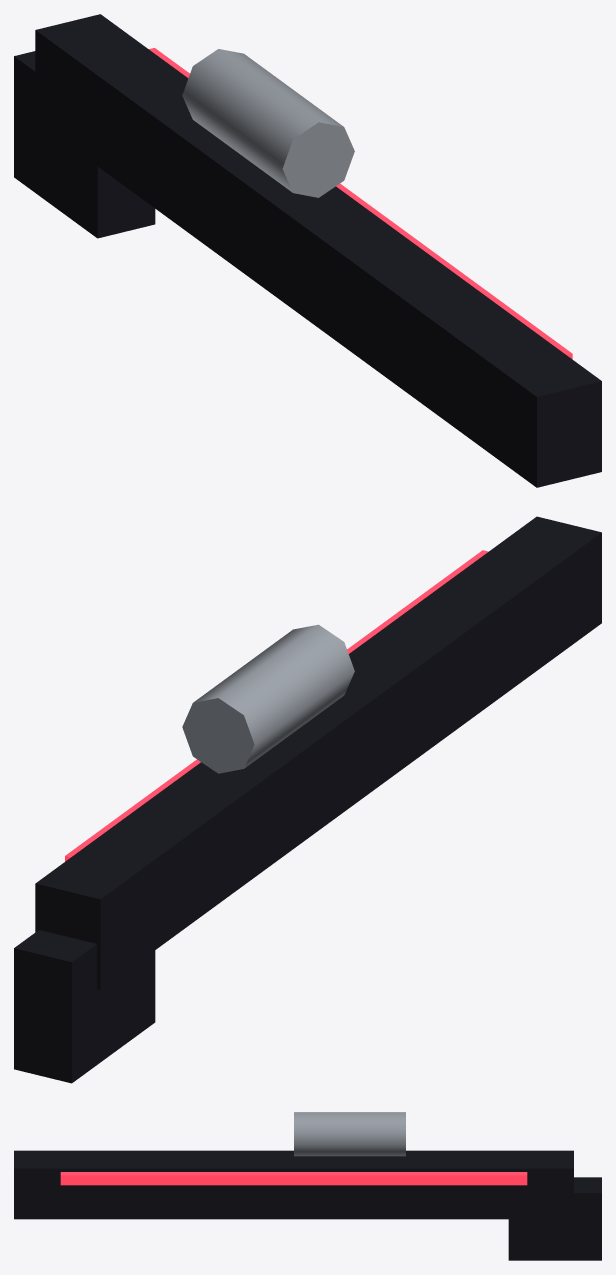
File: fw_shion1.glb
The picture shows the model from 3 angles, top to bottom: view 1: azimuth 30°, elevation 25°; view 2: azimuth 150°, elevation 25°; view 3: azimuth 270°, elevation 25°; orthographic projection. The views are drawn at different scales.
Visible parts, largest first — view 1: fw_shion1; view 2: fw_shion1; view 3: fw_shion1.
Boxes of the visible parts, <box> form: fw_shion1: <box>14,14,601,487</box>; fw_shion1: <box>14,516,601,1083</box>; fw_shion1: <box>14,1112,601,1260</box>.
Bounding box in the file's own units: 0.056 × 0.165 × 0.63.
